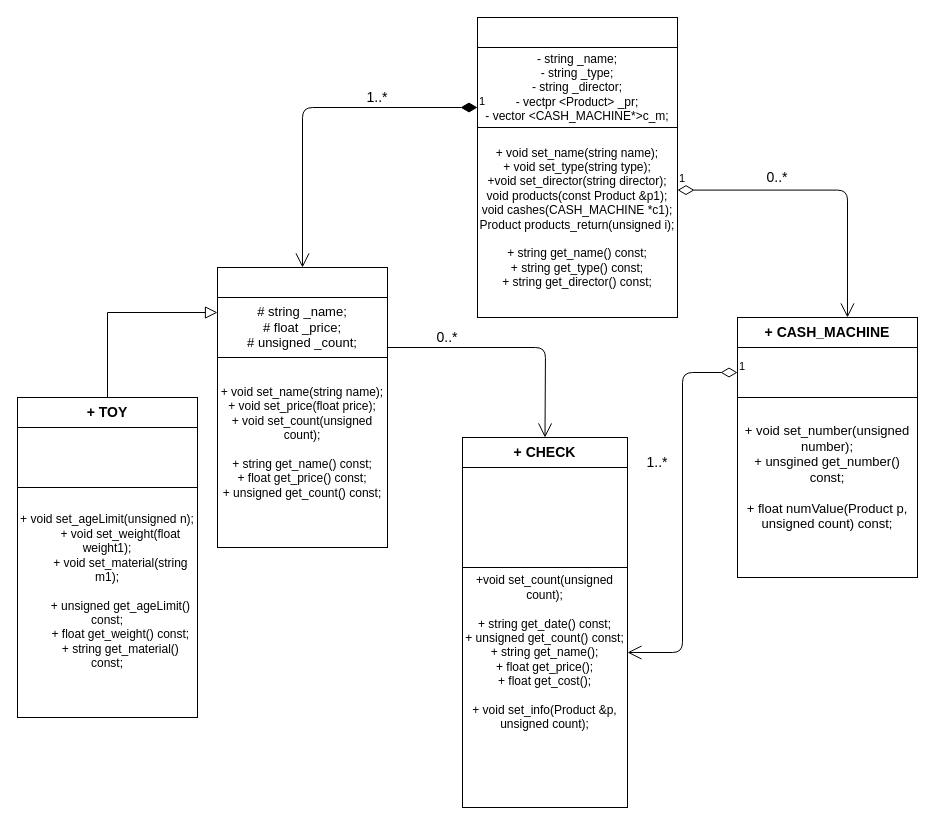
This 935x825 diagram has some shape labels left out. The centre of each missing label's shape, as x and y in pixels:
+ PRODUCT: the point at 302,282
+ STORE: the point at 577,32
- unsigned _count; - string _date; - float _price - float _cost - string _name: the point at 545,517
- unsigned ageLimitLow; - float weight; - string material;: the point at 107,452
- unsigned number; - Check *c;: the point at 827,372
